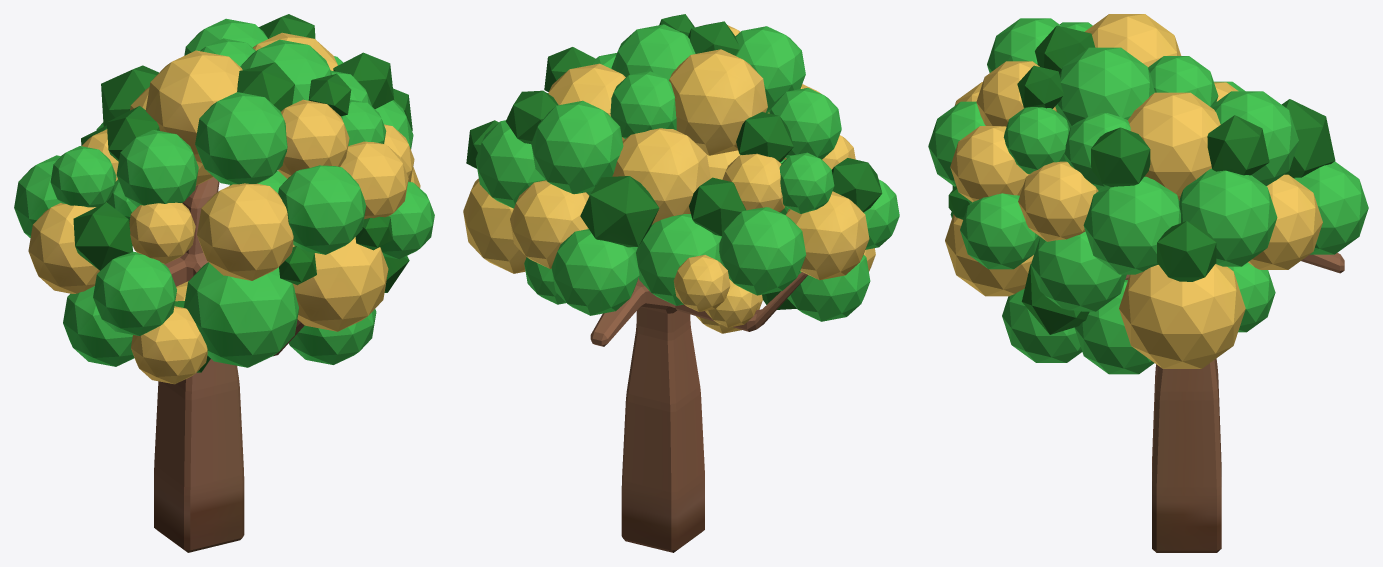
The model's file is arbol_xochi_3.fbx.
3 views of the same model, side by side, from view 1: azimuth 30°, elevation 25°; view 2: azimuth 150°, elevation 25°; view 3: azimuth 270°, elevation 25° (orthographic). The views are drawn at different scales.
Visible parts, largest first — view 1: Cube.003; view 2: Cube.003; view 3: Cube.003.
Part boxes in pixels (x1,y1,x2,y2): Cube.003: [14, 14, 434, 552]; Cube.003: [463, 14, 899, 552]; Cube.003: [928, 14, 1368, 552].
Size of the model in its own units: 1326 by 1626 by 1263.
